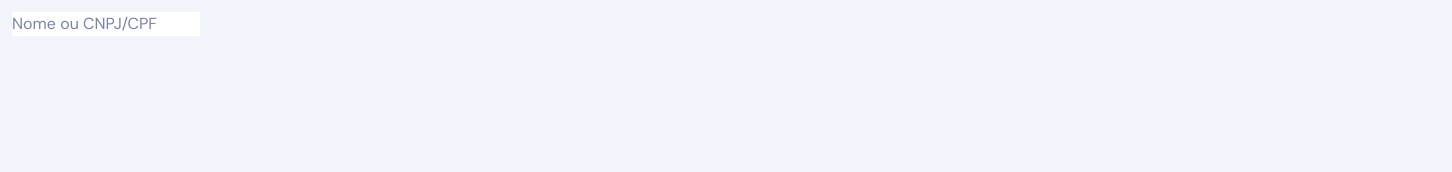
pickers › PersonPicker descarta a resposta atrasada de uma busca antiga
In the dropdown named "Pessoa": (106, 24) [12,12,200,36], type "ma"
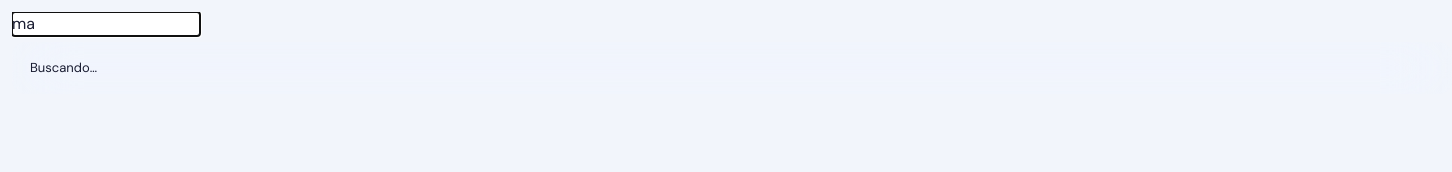
In the dropdown named "Pessoa": (106, 24) [12,12,200,36], type "ri"
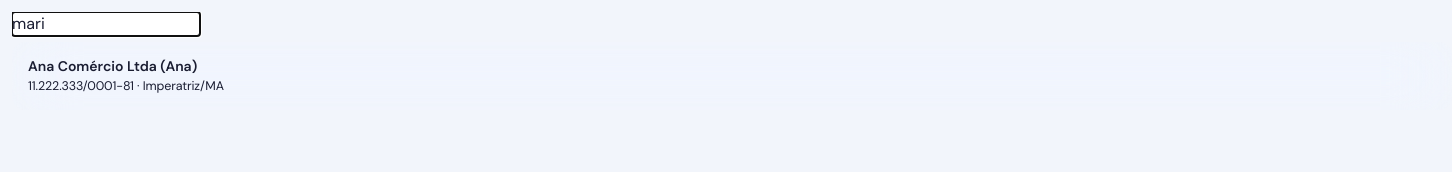
Result: the option "Ana Comércio Ltda (Ana) 11.222.333/0001-81 · Imperatriz/MA" is shown at [18,48,1446,104]
